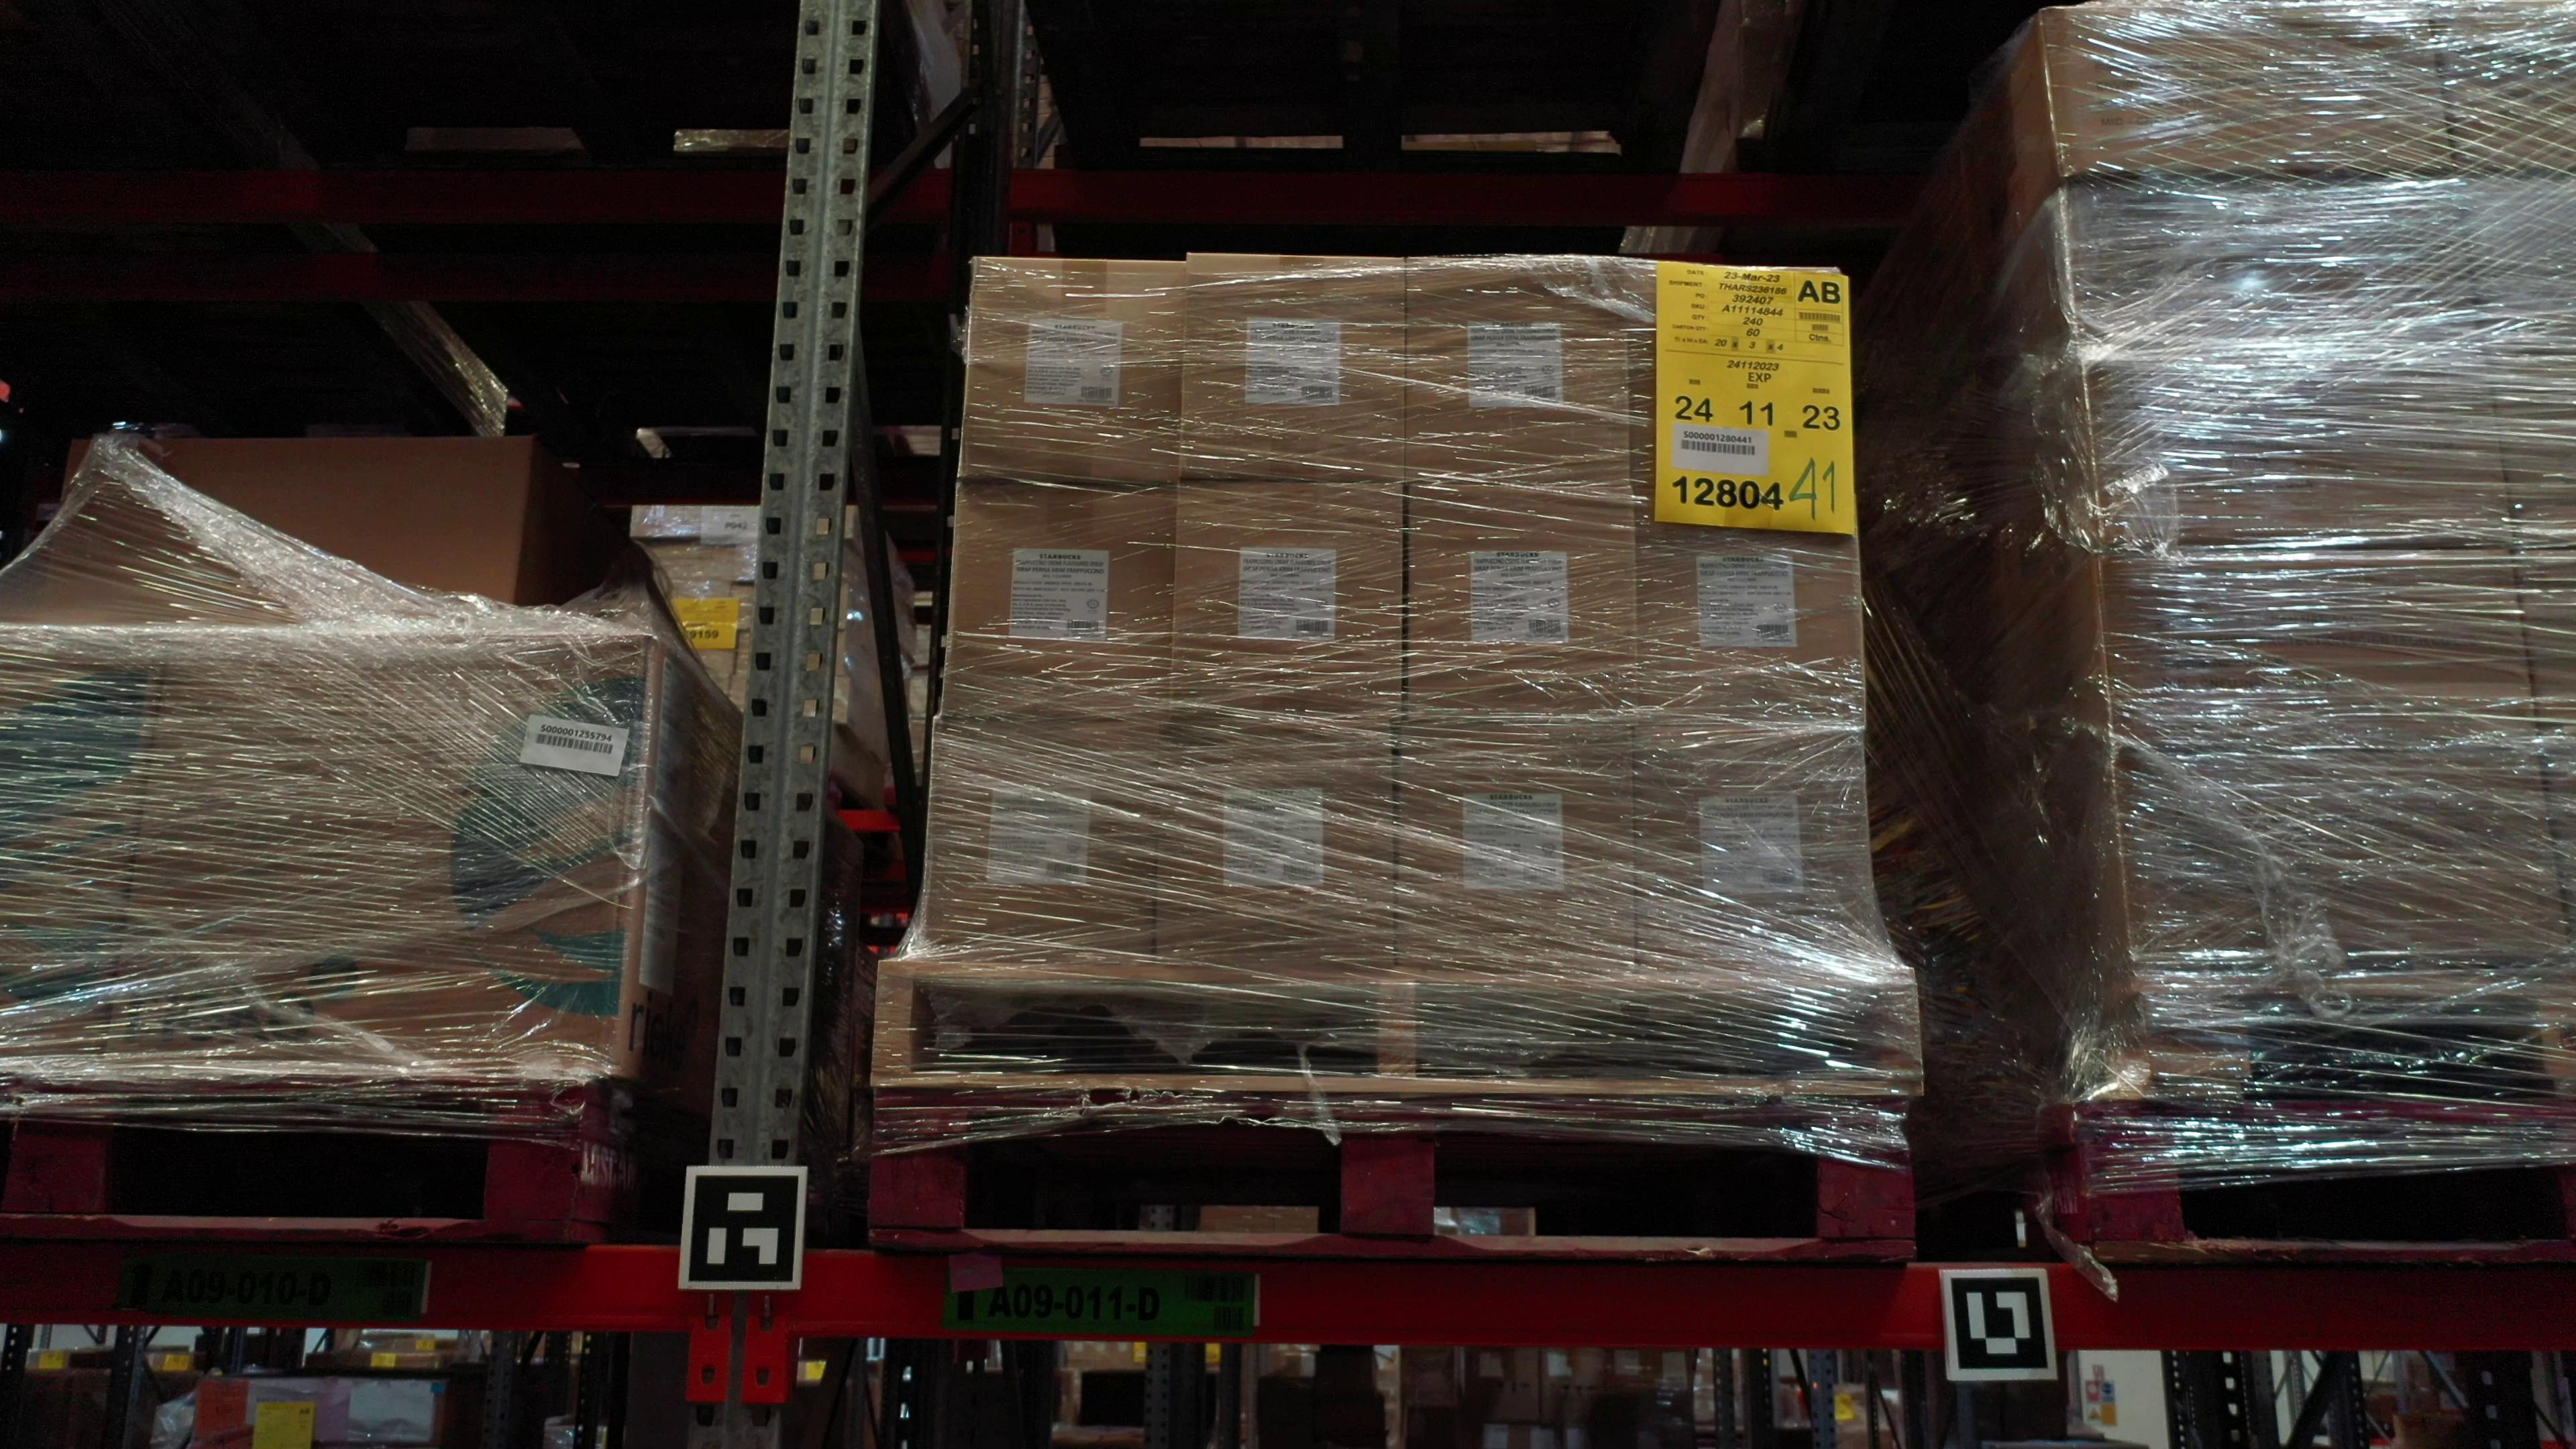-: (94, 628, 653, 1085), (2100, 543, 2549, 771), (37, 432, 534, 635), (2077, 340, 2518, 543), (2111, 770, 2571, 964), (0, 621, 170, 1085), (2065, 175, 2491, 354), (2043, 0, 2459, 180), (918, 718, 1168, 961), (939, 478, 1178, 725), (1152, 722, 1401, 959), (1407, 488, 1638, 743), (1398, 724, 1635, 971), (1164, 481, 1407, 722), (1635, 736, 1879, 973), (1175, 253, 1414, 485), (1637, 492, 1863, 736), (1628, 260, 1849, 501), (1405, 255, 1635, 483), (952, 257, 1185, 481), (2466, 172, 2576, 347), (2491, 347, 2576, 550), (2523, 543, 2576, 777)
